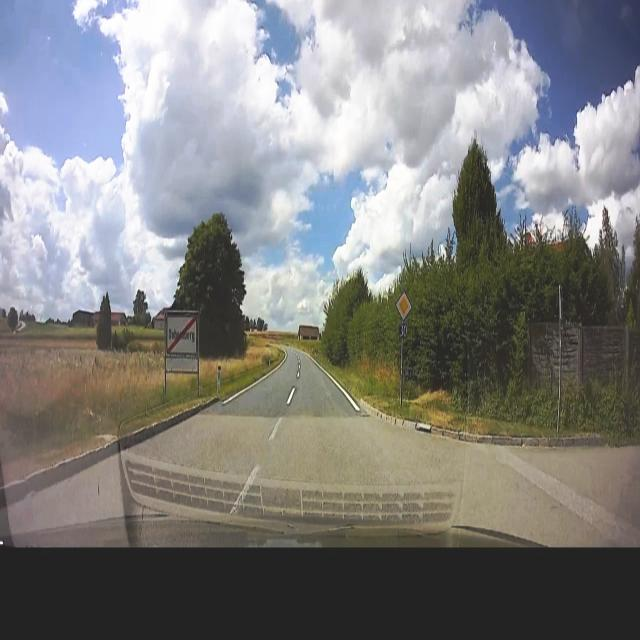Priority road: (392, 289, 414, 322)
